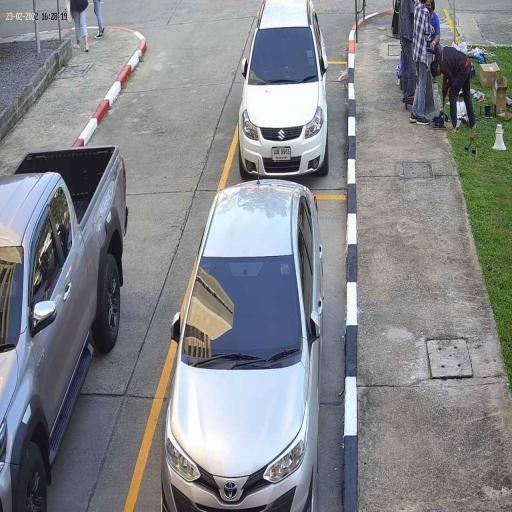car: (160, 178, 324, 512), (0, 144, 128, 512), (237, 0, 328, 178)
